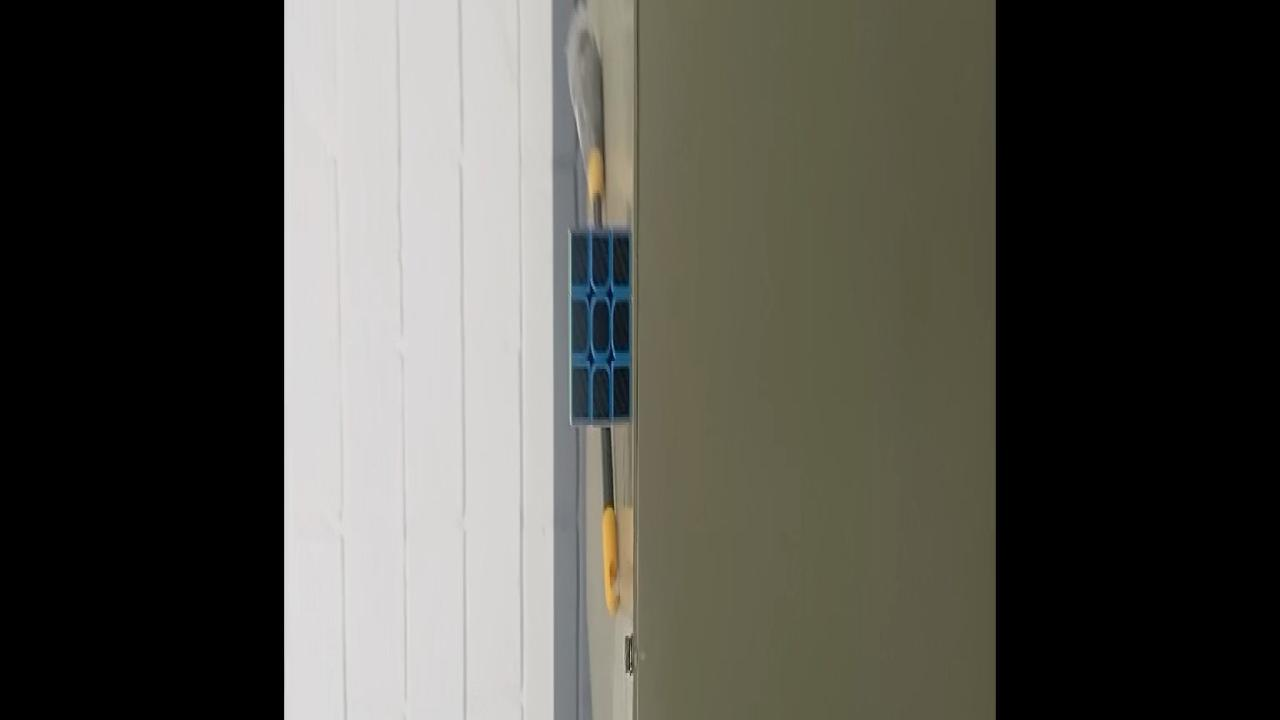Cube: (566, 224, 632, 432)
